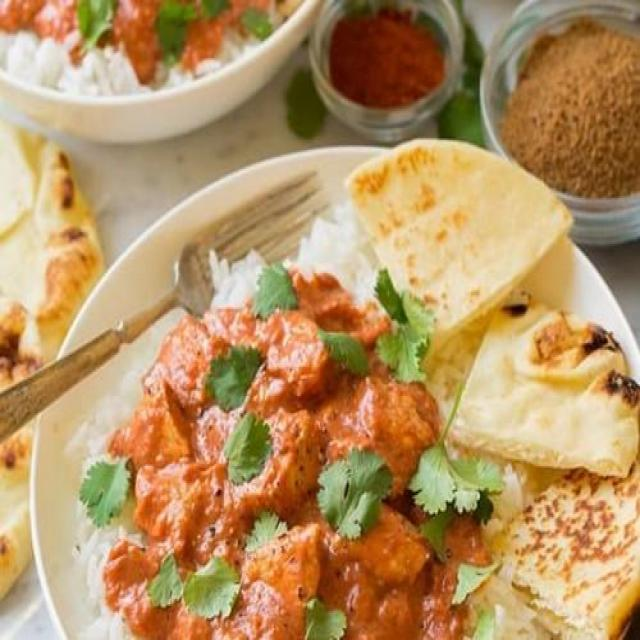chicken: (95, 282, 420, 640)
roti: (410, 149, 638, 640)
